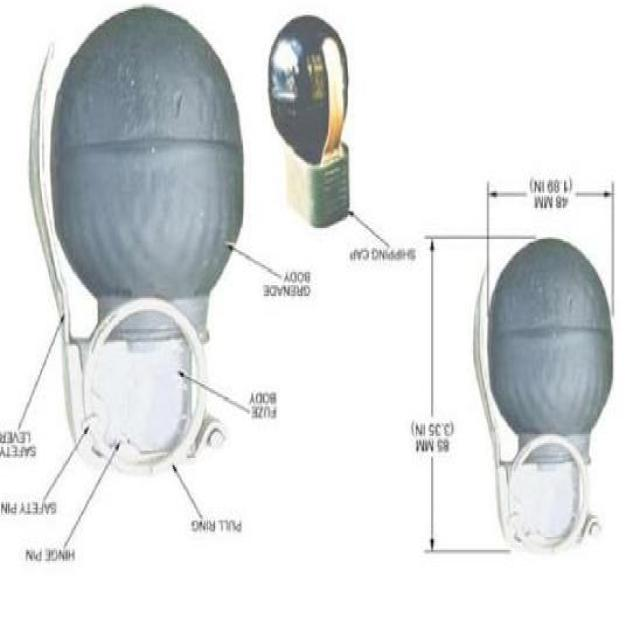grenade: (29, 8, 245, 478), (473, 239, 615, 557), (267, 12, 354, 231)
